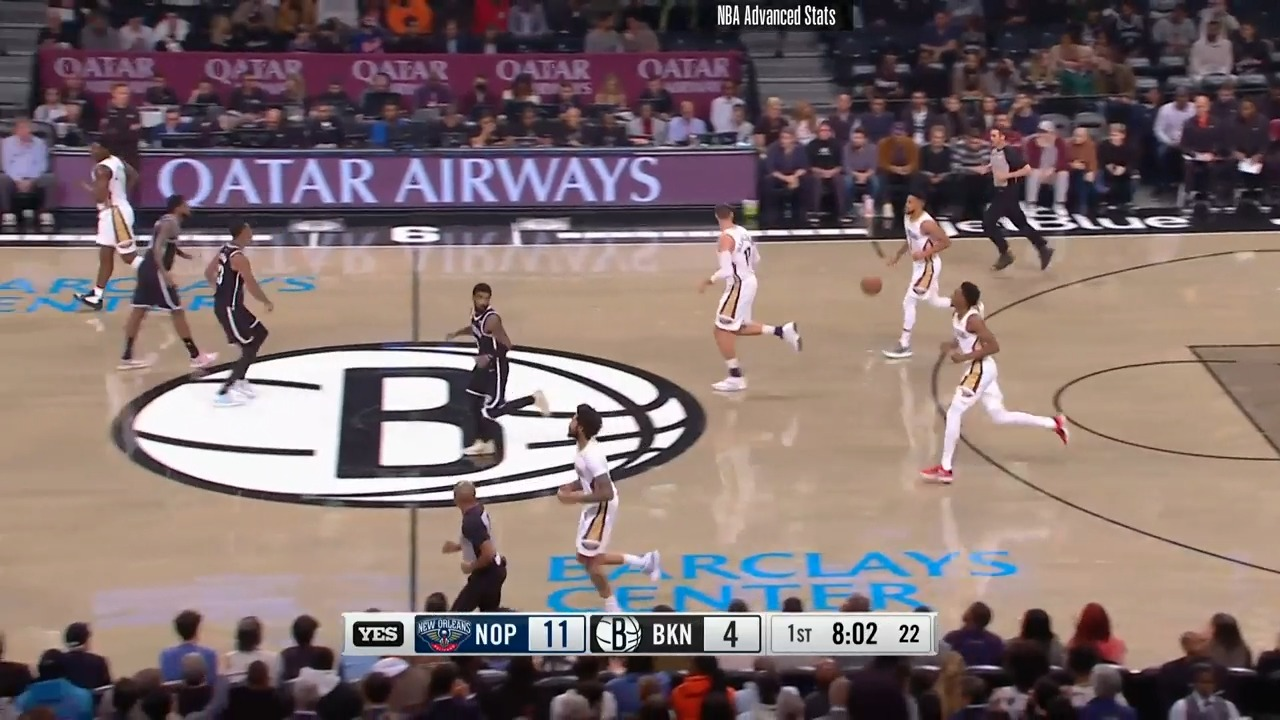player: (920, 282, 1068, 486), (545, 397, 666, 611), (439, 279, 565, 459), (690, 203, 797, 402), (187, 219, 286, 415), (866, 194, 956, 367), (124, 199, 211, 373), (77, 137, 153, 318)
referee: (966, 122, 1056, 275), (434, 479, 509, 614)
